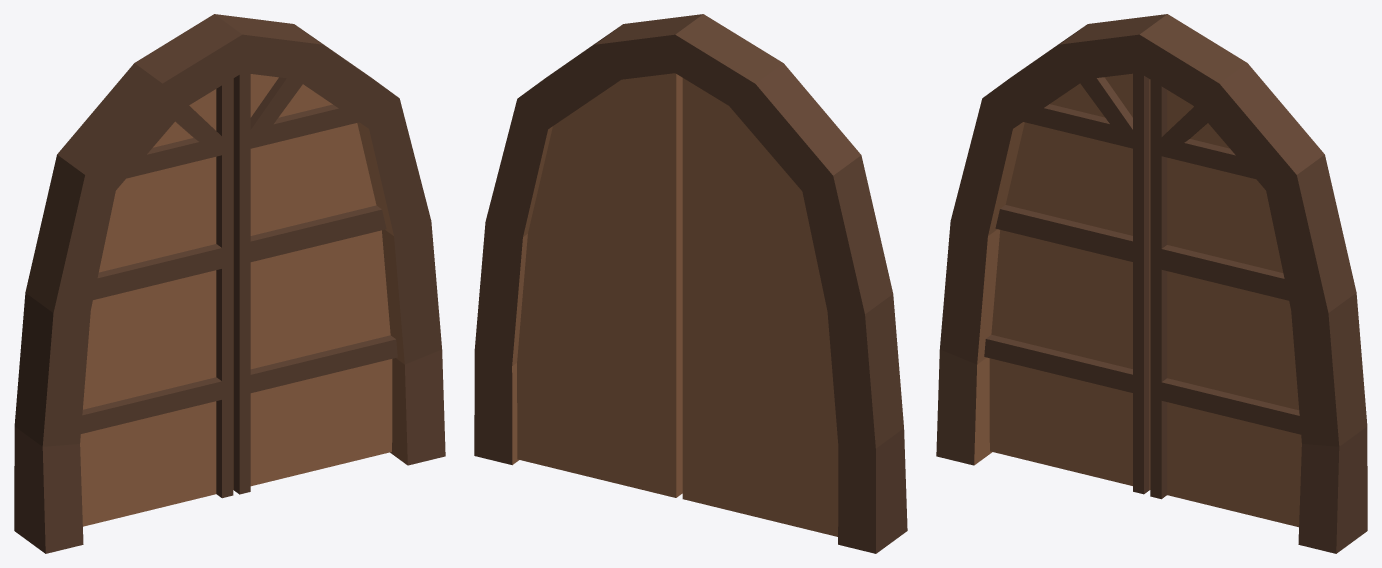
The model's file is Door.glb.
3 views of the same model, side by side, from view 1: azimuth 30°, elevation 25°; view 2: azimuth 150°, elevation 25°; view 3: azimuth 330°, elevation 25° (orthographic).
Parts seen in each view (by area): view 1: Door, RightDoor, LeftDoor; view 2: Door, RightDoor, LeftDoor; view 3: Door, LeftDoor, RightDoor.
Part boxes in pixels (bbox=[...]): Door: bbox=[14, 14, 445, 553]; RightDoor: bbox=[233, 73, 397, 494]; LeftDoor: bbox=[80, 79, 233, 526]; Door: bbox=[474, 14, 907, 553]; RightDoor: bbox=[517, 73, 682, 497]; LeftDoor: bbox=[682, 78, 838, 536]; Door: bbox=[936, 14, 1367, 553]; LeftDoor: bbox=[984, 73, 1150, 494]; RightDoor: bbox=[1150, 79, 1301, 527].
Bounding box in the file's own units: 0.8908 × 0.9966 × 0.121.
